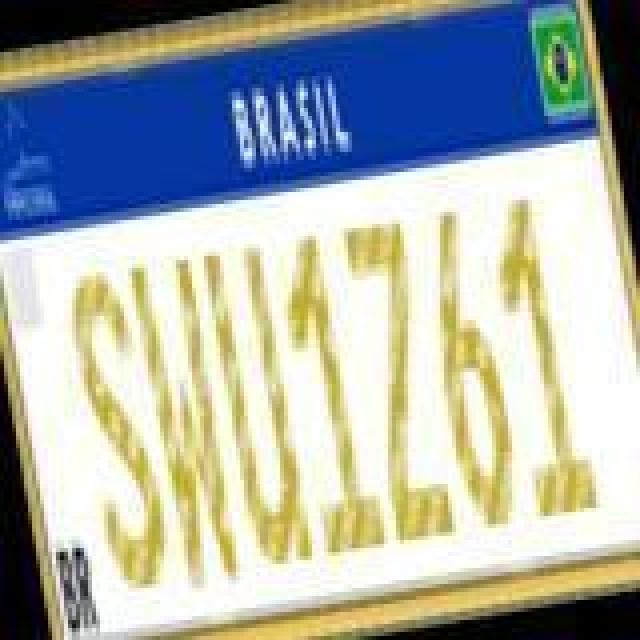1: (266, 222, 390, 562), (484, 184, 604, 520)
6: (408, 196, 528, 532)
S: (60, 264, 180, 600)
U: (196, 240, 316, 576)
W: (122, 252, 246, 596)
Z: (338, 206, 462, 546)
